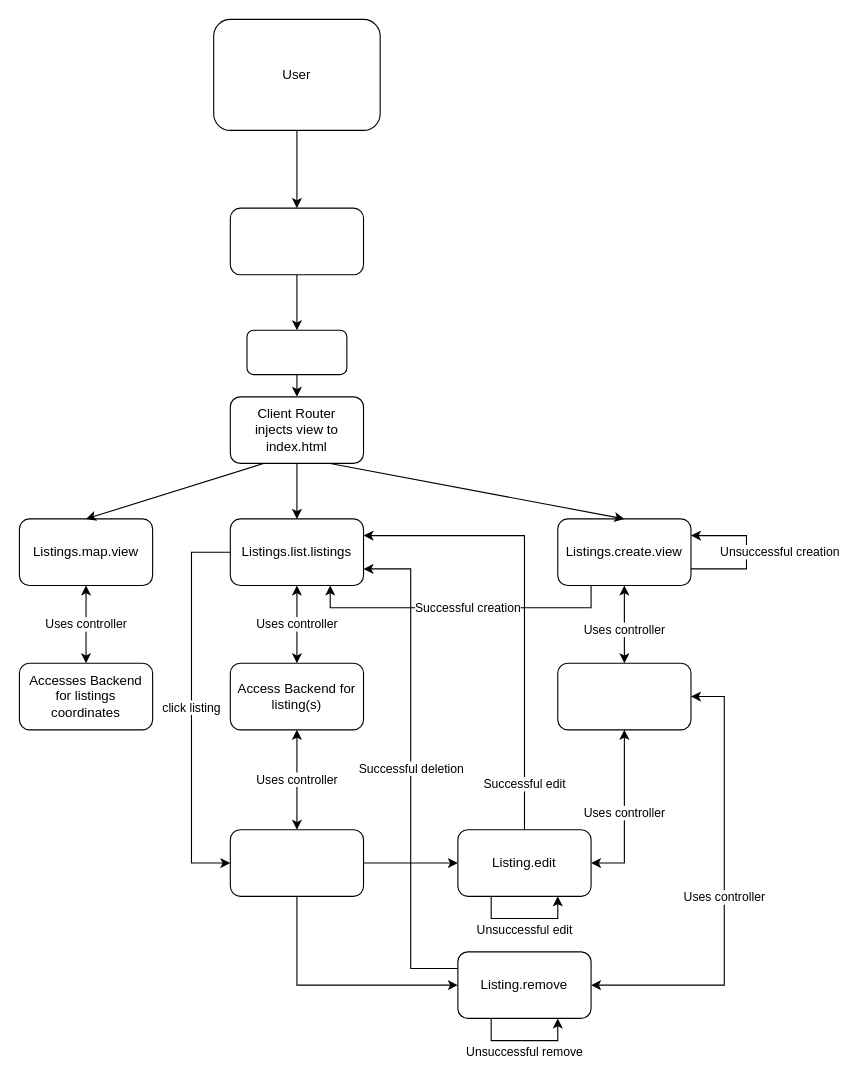
This 859x1078 diagram has some shape labels left out. Here are the shapes that lost their labels. From the top down, the centre of each, then its label:
(296,241): Express.js
(296,352): Index.html
(624,696): Accesses Backend Server
(296,862): Listing.view.listing
